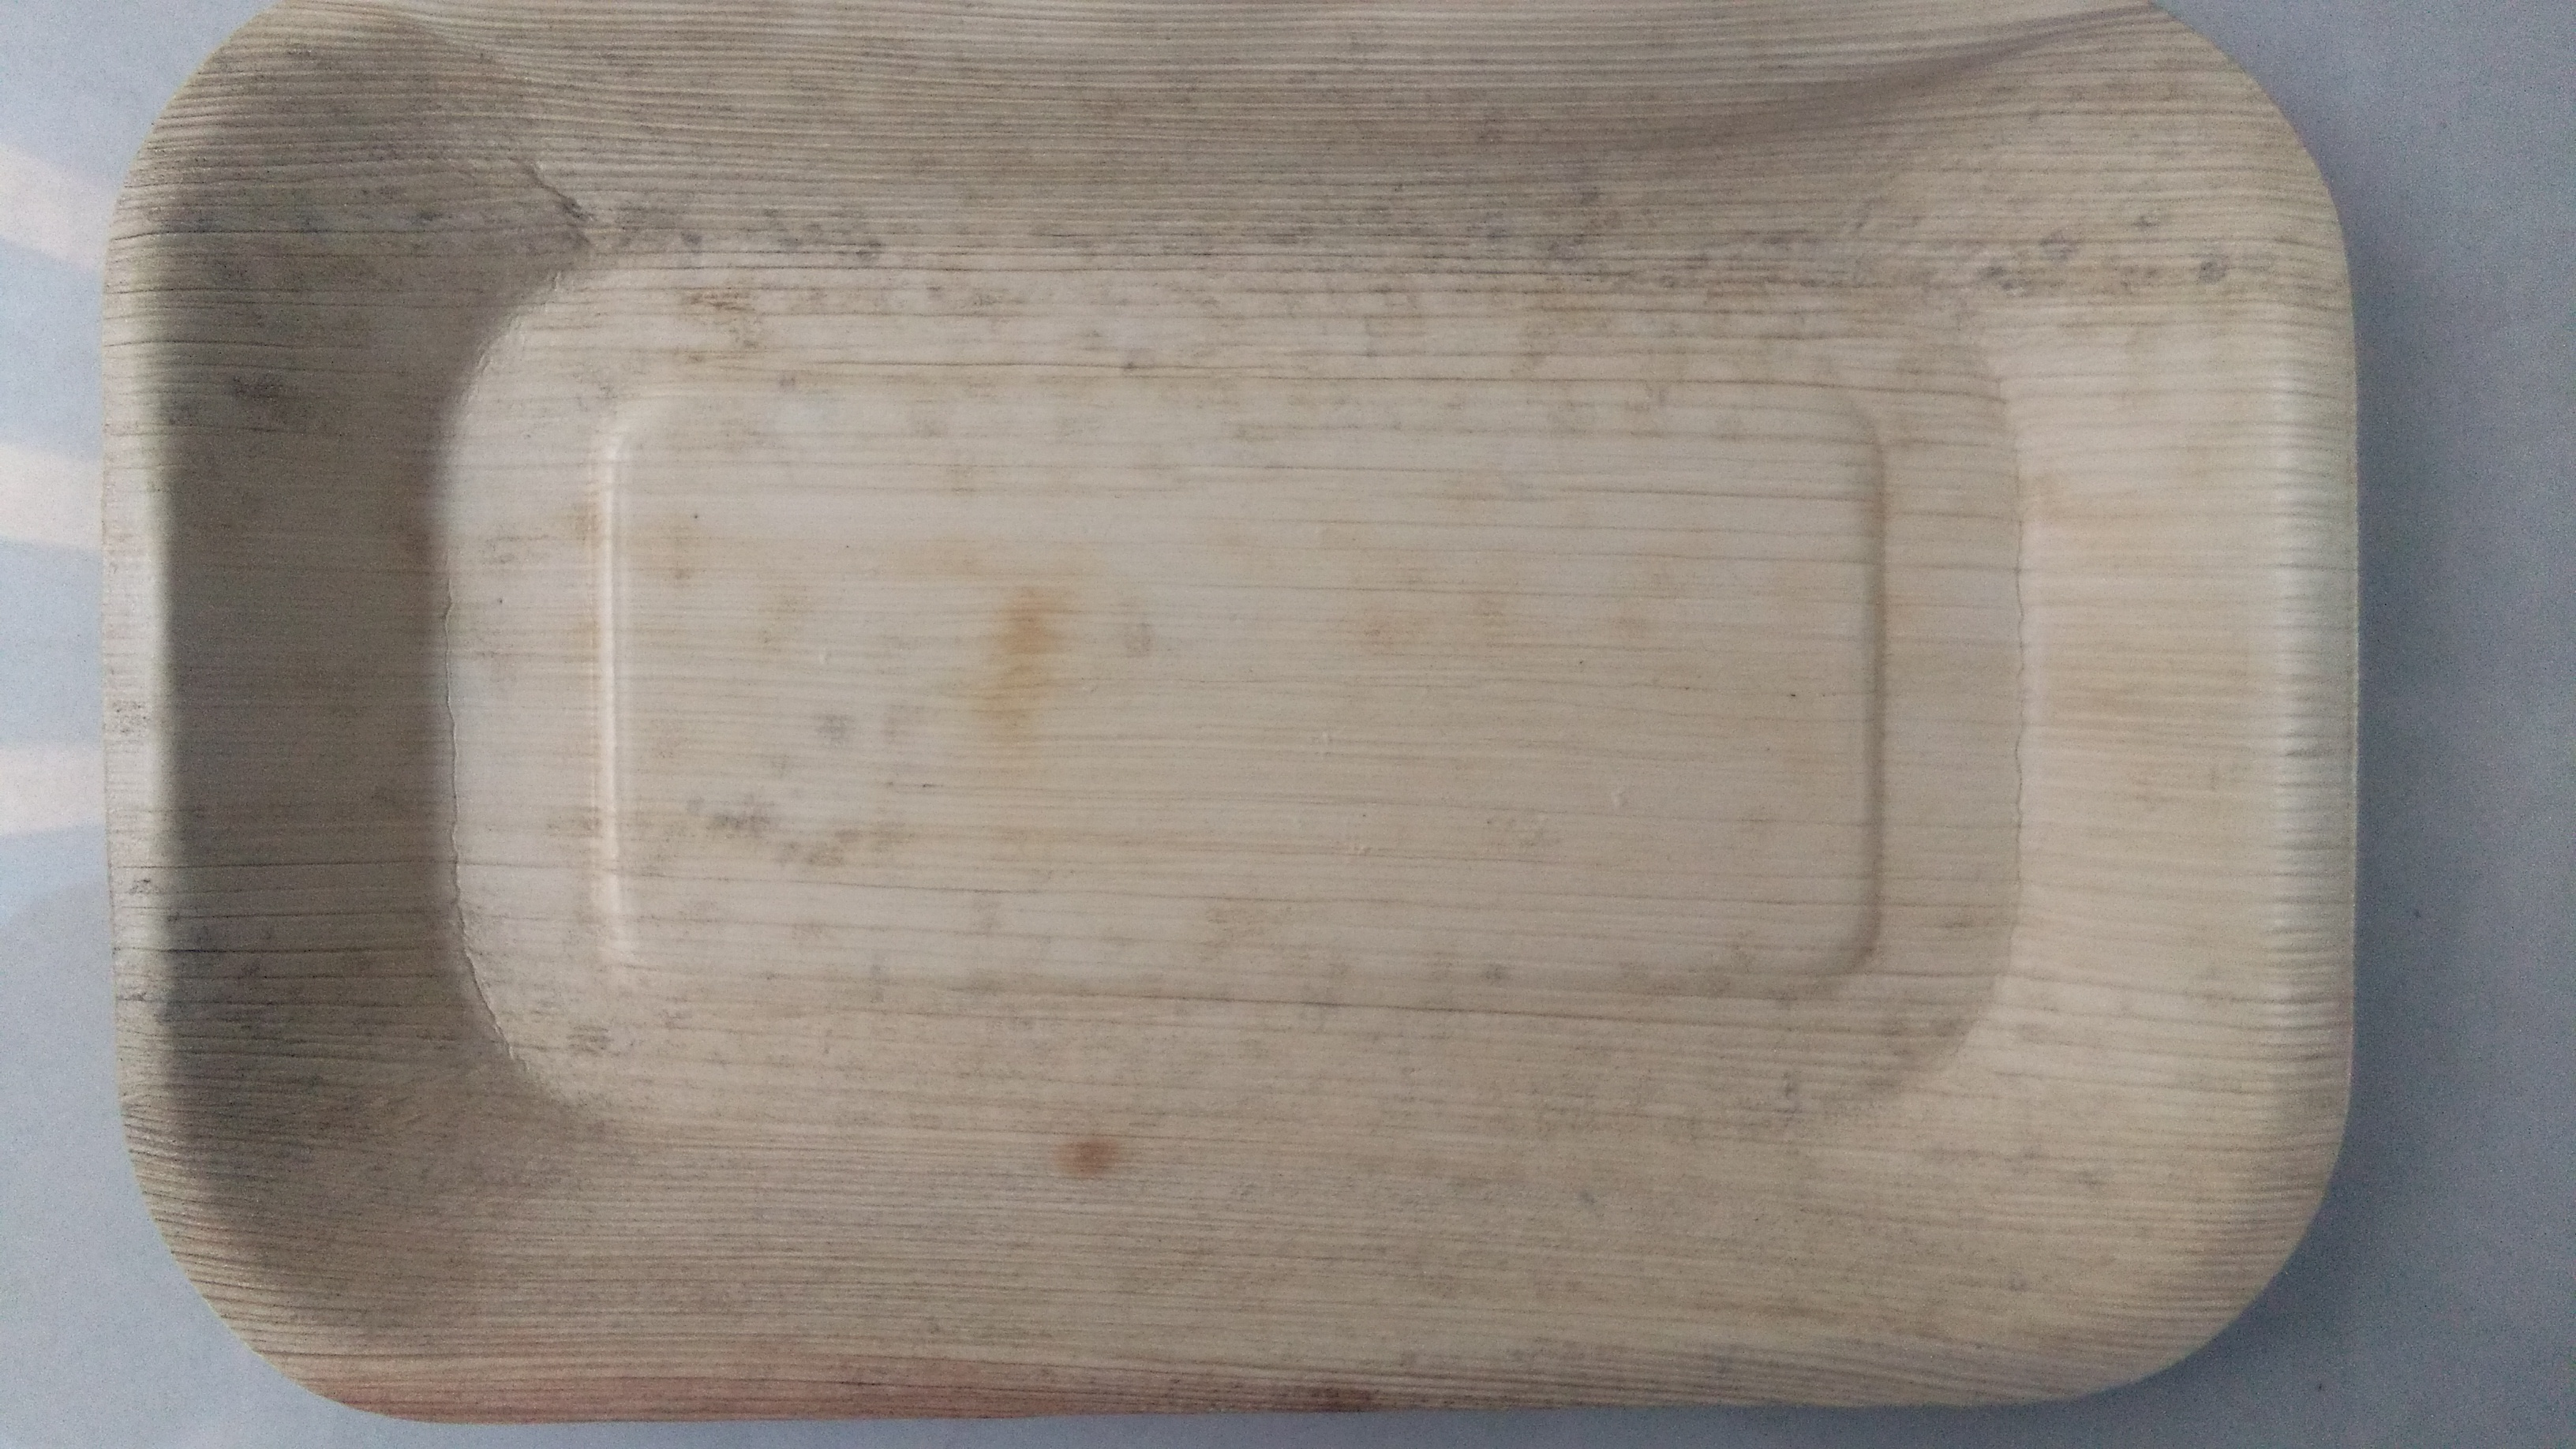areca plate: (113, 0, 2364, 1384)
